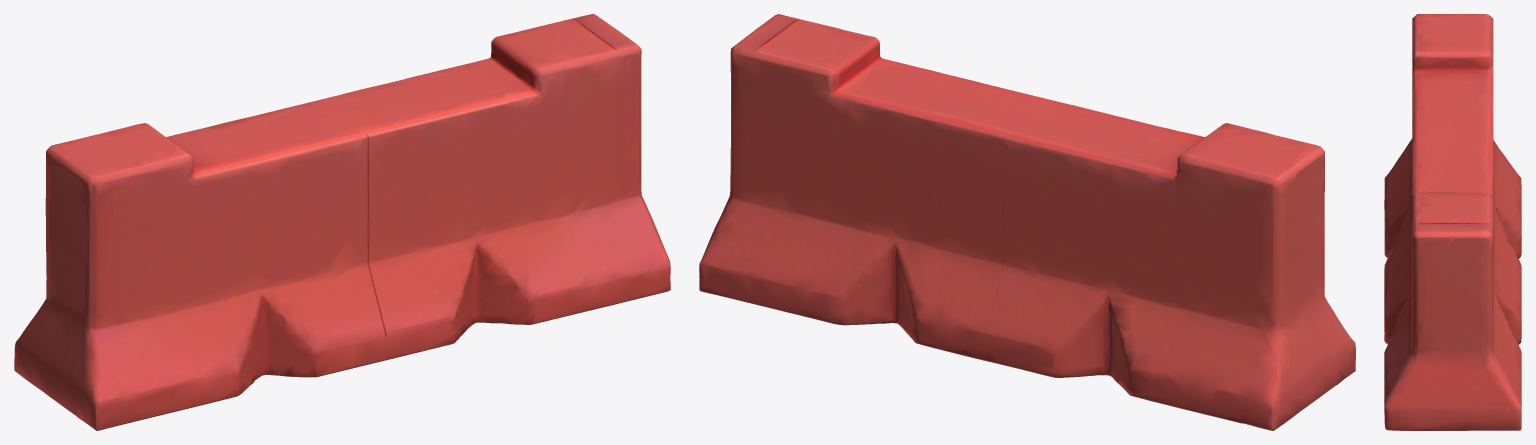
The model's file is Low_poly_road_barrier_1028222618_texture.glb.
The picture shows the model from 3 angles, left to right: view 1: azimuth 30°, elevation 25°; view 2: azimuth 150°, elevation 25°; view 3: azimuth 270°, elevation 25°; orthographic projection. The views are drawn at different scales.
Visible parts, largest first — view 1: Mesh1.0; view 2: Mesh1.0; view 3: Mesh1.0.
Part boxes in pixels (<box>): Mesh1.0: <box>14,14,670,430</box>; Mesh1.0: <box>699,14,1355,430</box>; Mesh1.0: <box>1384,14,1521,430</box>.
Size of the model in its own units: 2.01 by 0.7853 by 0.5054.
1 material, 1 textured.
